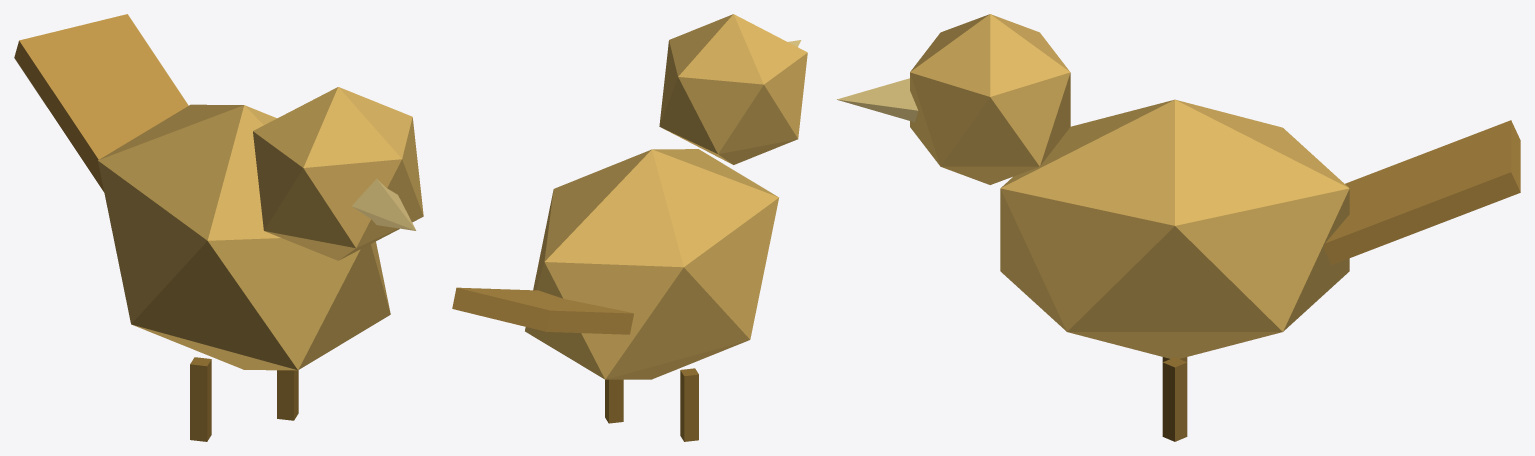
The model's file is gold_bird.glb.
3 renders of one model, left to right at view 1: azimuth 30°, elevation 25°; view 2: azimuth 150°, elevation 25°; view 3: azimuth 270°, elevation 25°, orthographic. The views are drawn at different scales.
Visible parts, largest first — view 1: golden breast, golden head.002, tail feathers, bird leg, beak, bird leg.001; view 2: golden breast, golden head.002, tail feathers, bird leg, bird leg.001; view 3: golden breast, golden head.002, tail feathers, bird leg.001, beak.
Boxes of the visible parts, x1,y1,x2,y2 form: golden breast: (98, 104, 390, 370); golden head.002: (253, 87, 423, 260); tail feathers: (14, 14, 188, 192); bird leg: (190, 357, 211, 441); beak: (352, 179, 416, 230); bird leg.001: (277, 370, 298, 420); golden breast: (525, 149, 779, 379); golden head.002: (659, 14, 807, 164); tail feathers: (452, 287, 633, 334); bird leg: (680, 368, 698, 441); bird leg.001: (605, 379, 623, 423); golden breast: (1000, 99, 1349, 358); golden head.002: (910, 14, 1070, 184); tail feathers: (1323, 120, 1520, 264); bird leg.001: (1162, 357, 1187, 441); beak: (837, 78, 918, 122).
Bounding box in the file's own units: 0.0626 × 0.108 × 0.1667.
